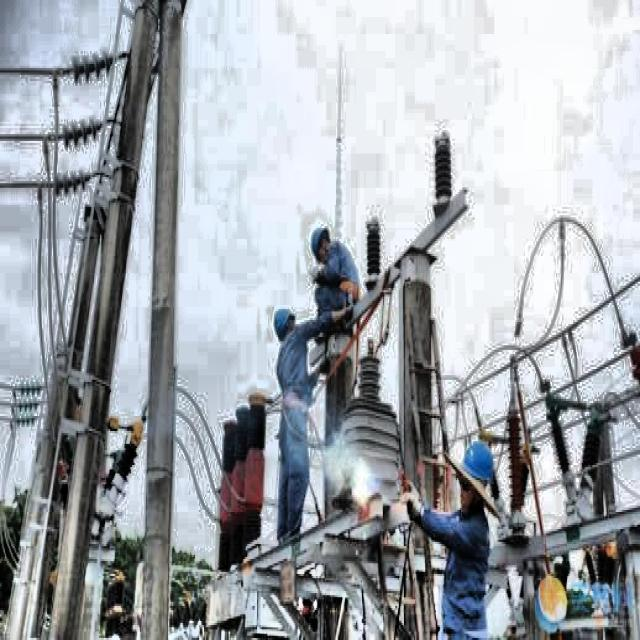helmet: (454, 435, 496, 512), (271, 303, 299, 346), (310, 220, 334, 266)
